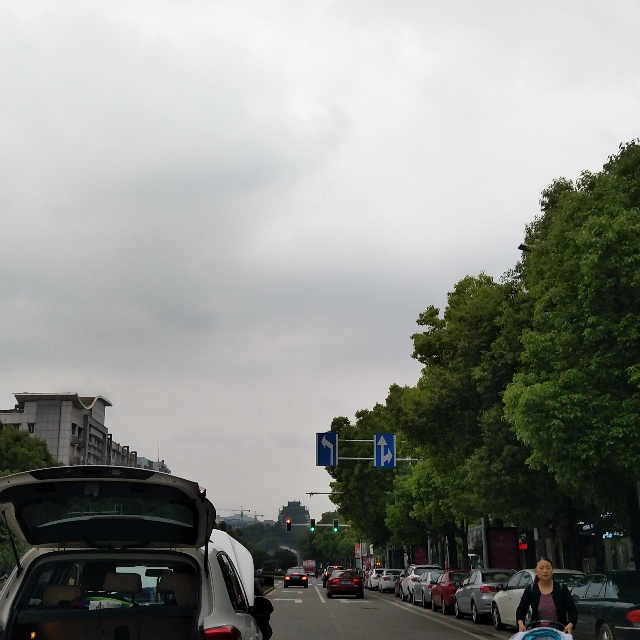left: (316, 429, 338, 464)
